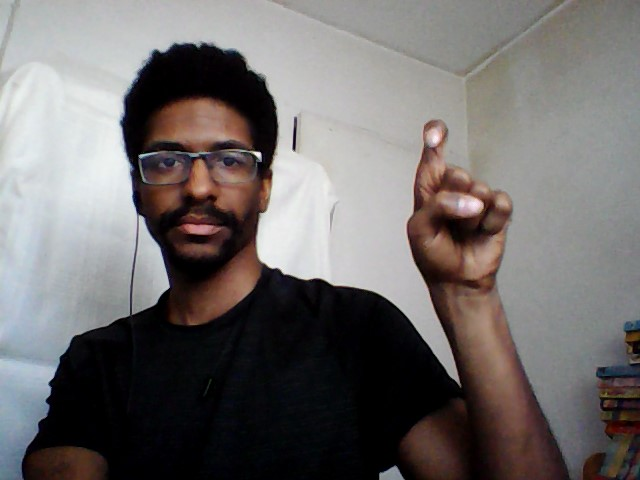x: (399, 114, 519, 297)
